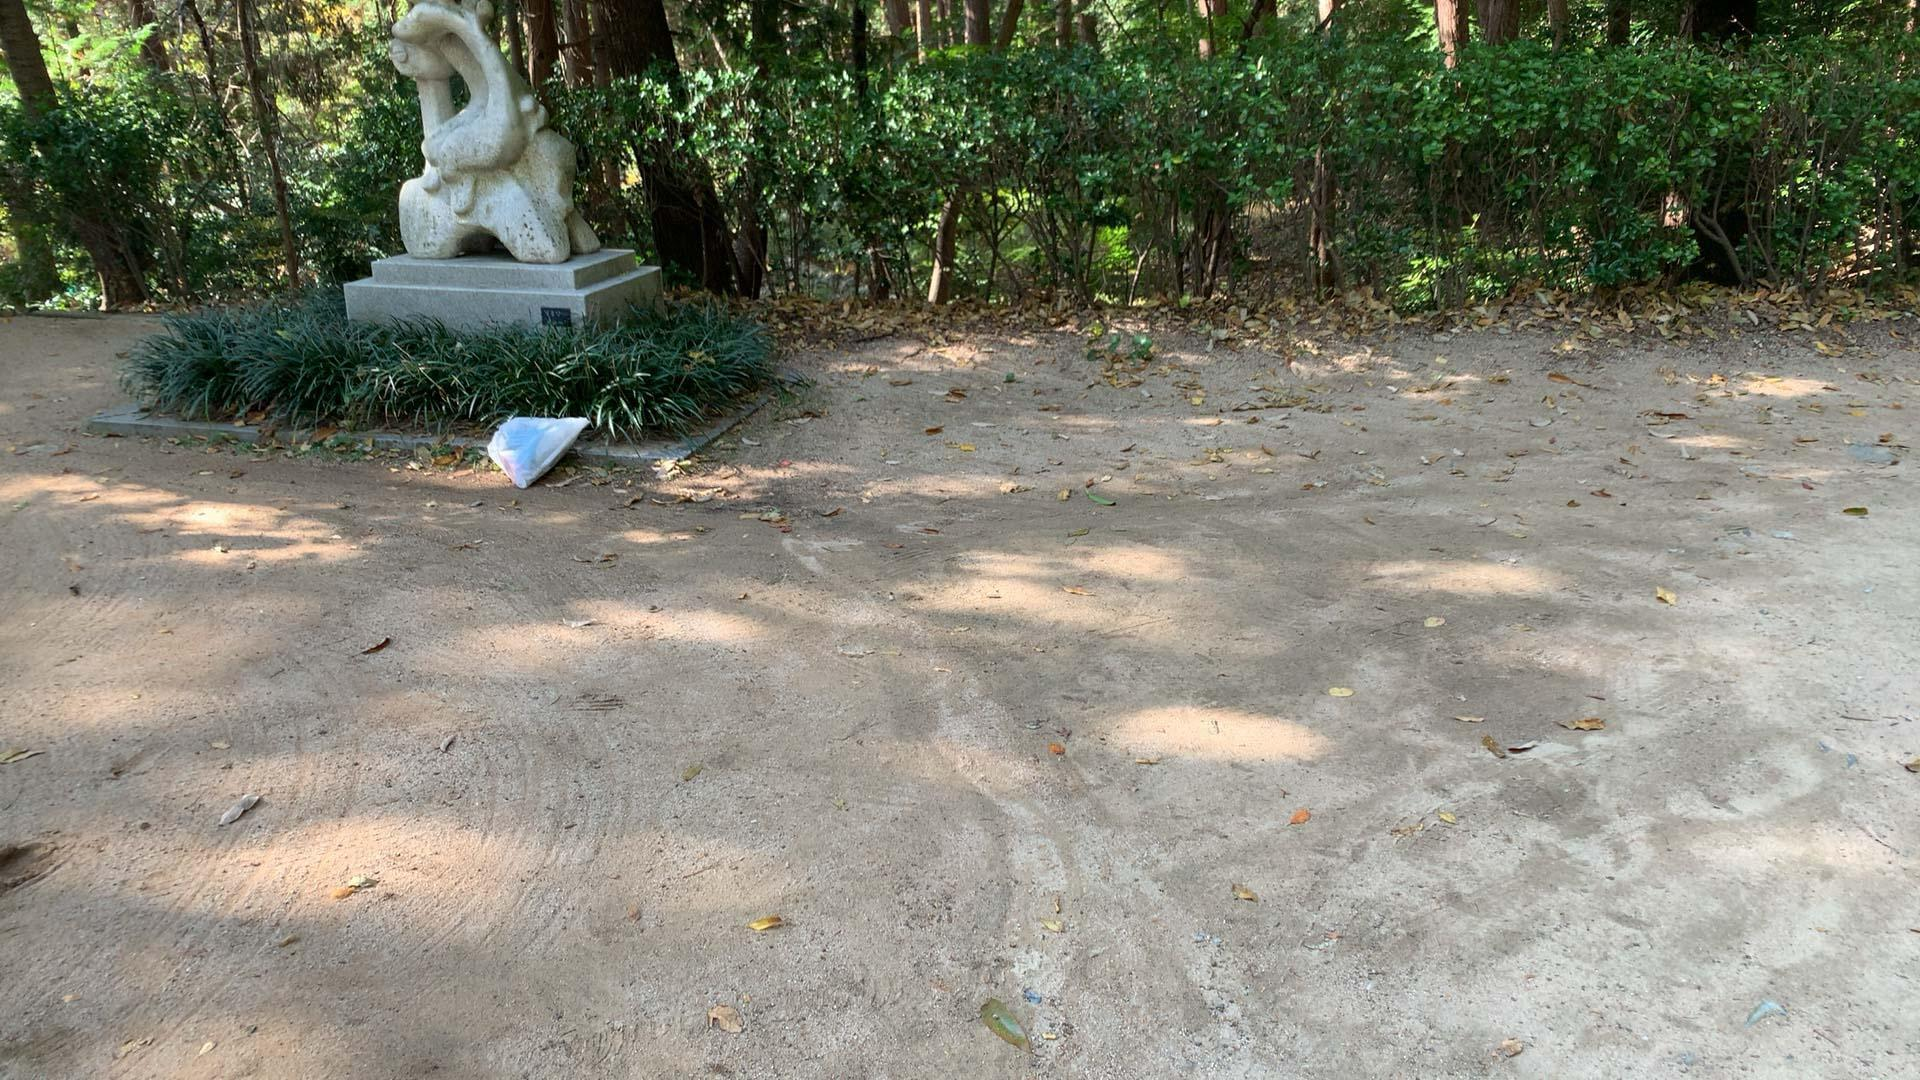white_bag: (483, 407, 597, 493)
